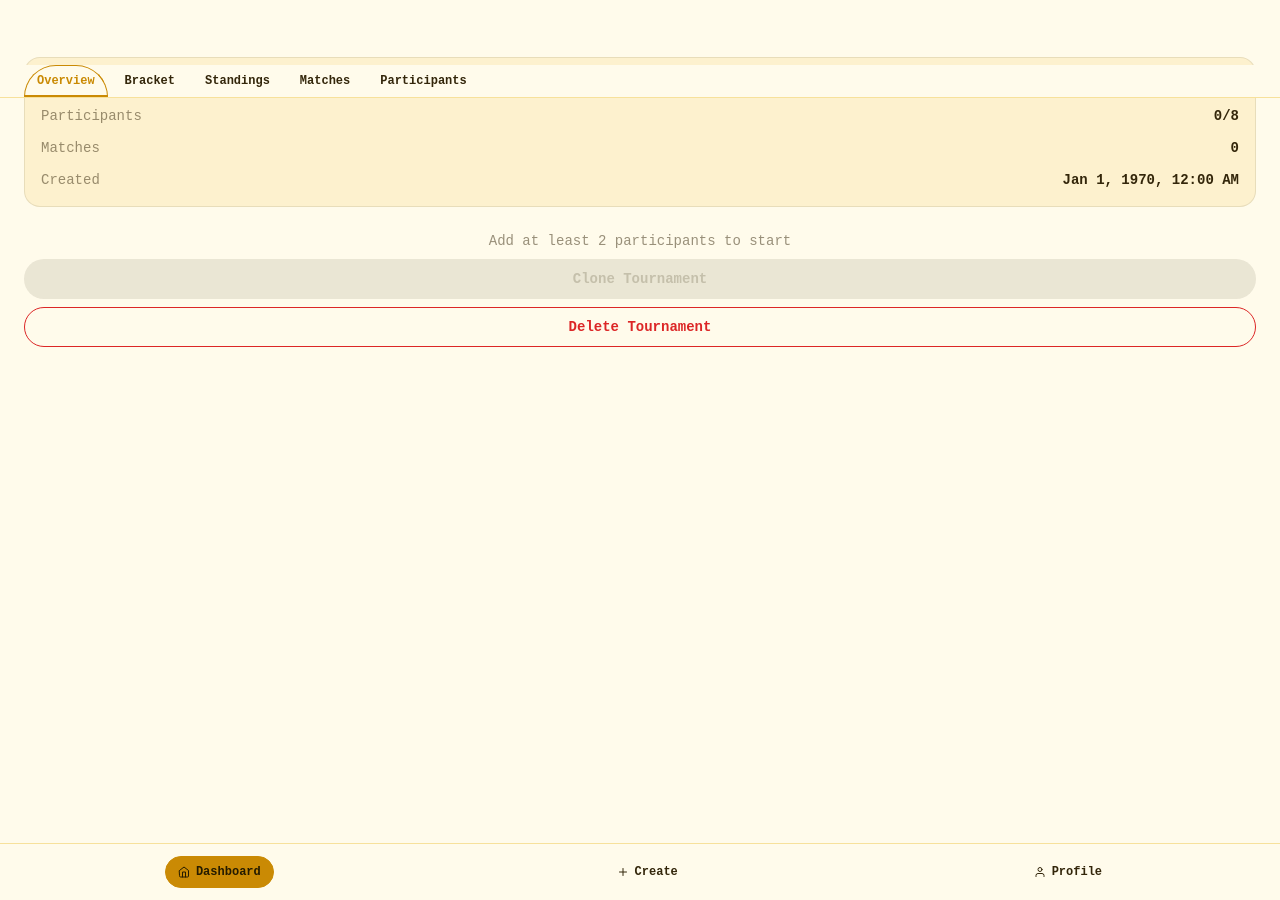
Test: TournamentDetailPage › shows the empty participants state
Click the button "Participants" at {"x": 424, "y": 81}, box left=367, top=65, right=480, bottom=97
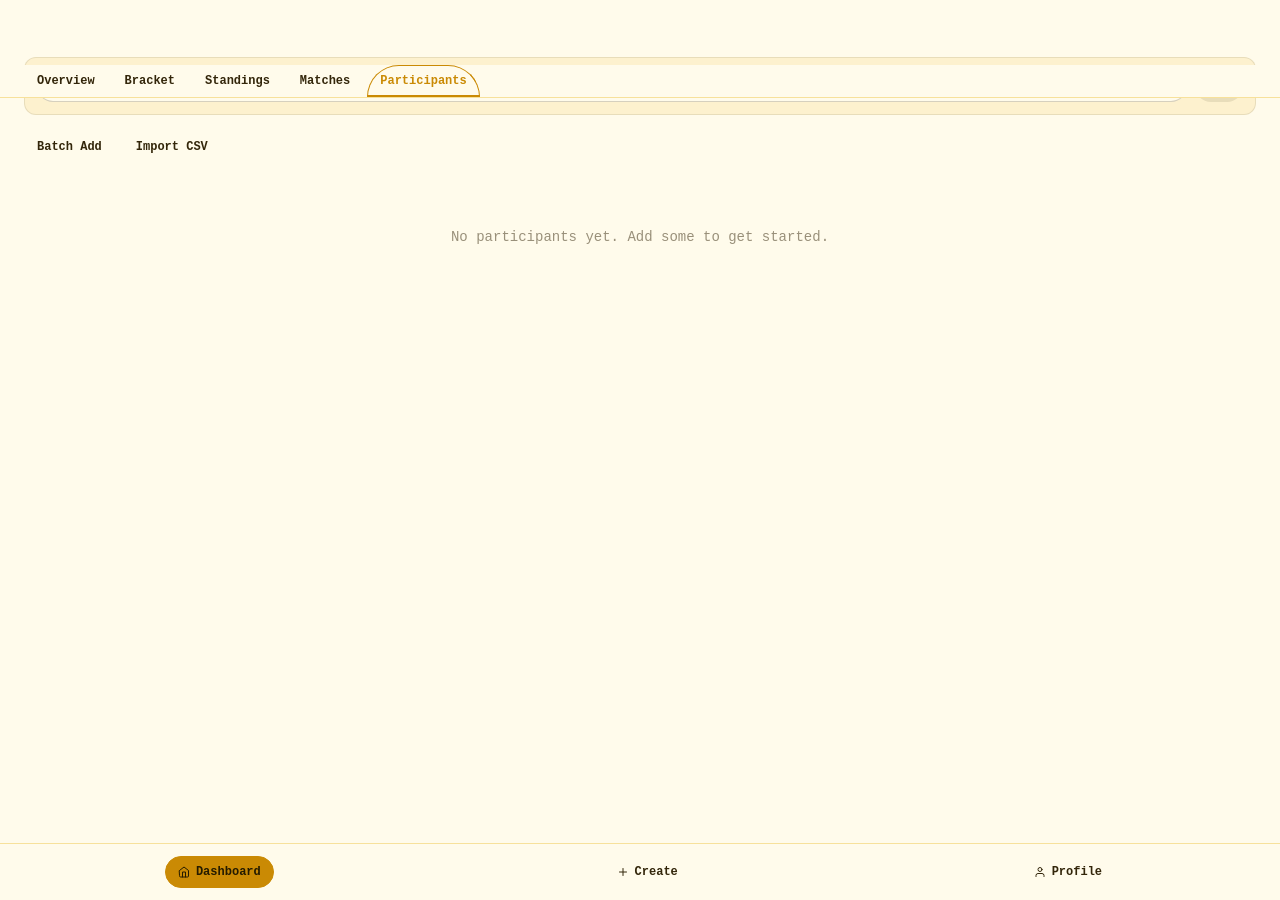
expect the text "No participants yet. Add some to get started." is shown: met, box left=451, top=229, right=829, bottom=245
